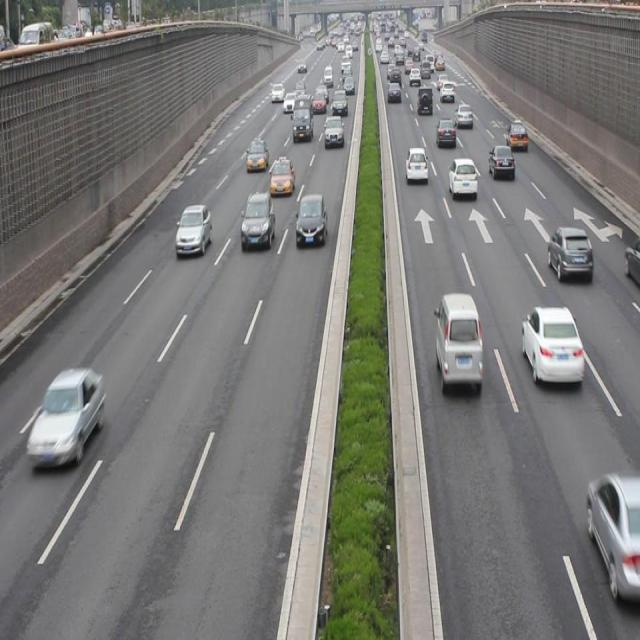car: (28, 364, 104, 466), (583, 475, 640, 602), (520, 304, 582, 386), (547, 224, 593, 284), (239, 190, 275, 250), (176, 202, 211, 257), (295, 192, 326, 244), (446, 156, 477, 194), (622, 232, 640, 292), (487, 143, 515, 181), (269, 156, 294, 194), (404, 145, 428, 183), (245, 138, 268, 173), (506, 116, 528, 149), (435, 116, 456, 149), (323, 114, 343, 147), (454, 102, 473, 128)
truck: (434, 292, 481, 386), (292, 90, 313, 142)
